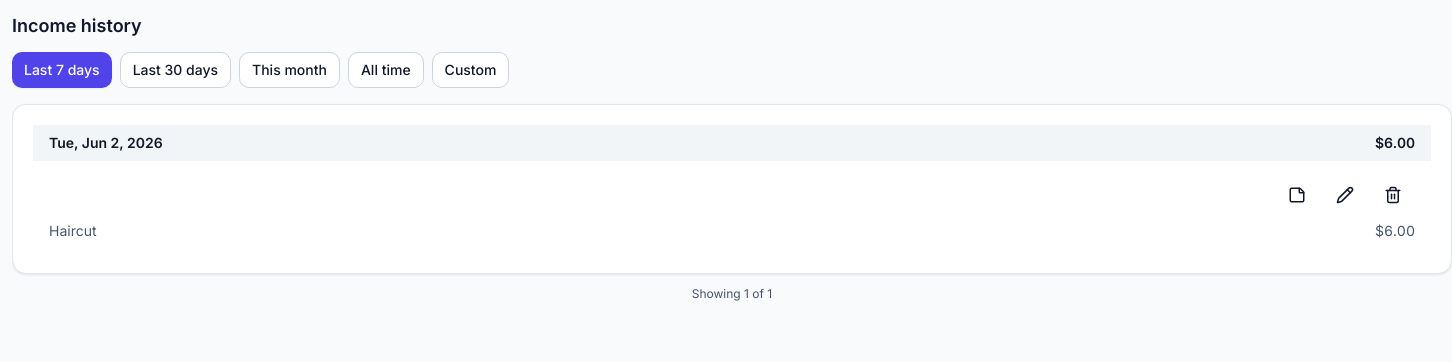
IncomeHistory › keeps an appointment note hidden until its toggle is clicked
Expected: the text "Walk-in, paid cash" is not shown
Click the button named "Show note" at x=1297, y=195, box 1275,173 -> 1319,217
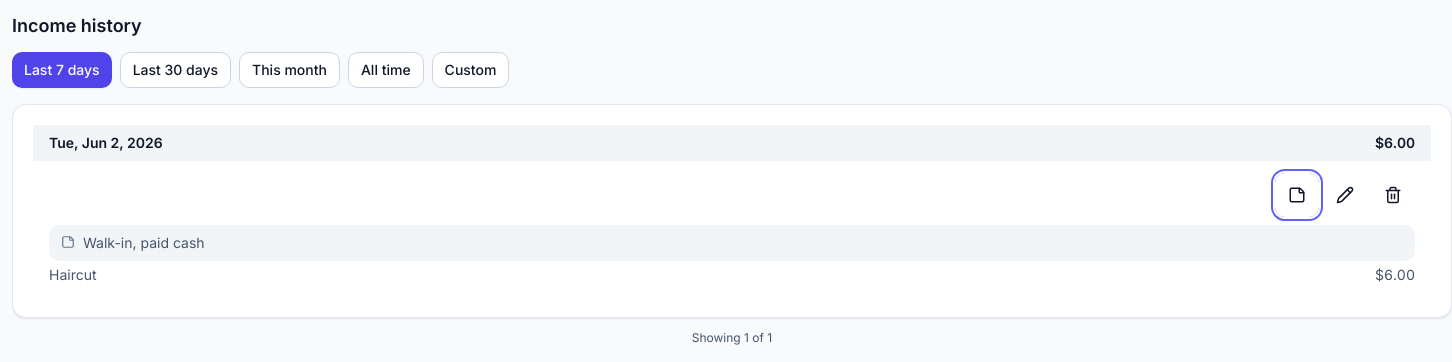
Expected: the text "Walk-in, paid cash" is shown, 83,233 -> 205,253
The toggle flips to "Hide note" and collapses the note again.
Click the button named "Hide note" at x=1297, y=195, box 1275,173 -> 1319,217
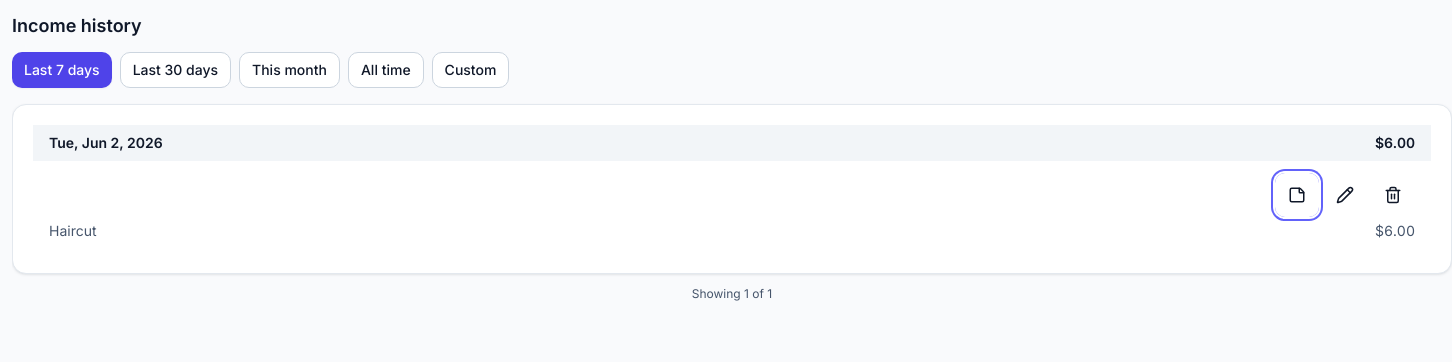
Expected: the text "Walk-in, paid cash" is gone
